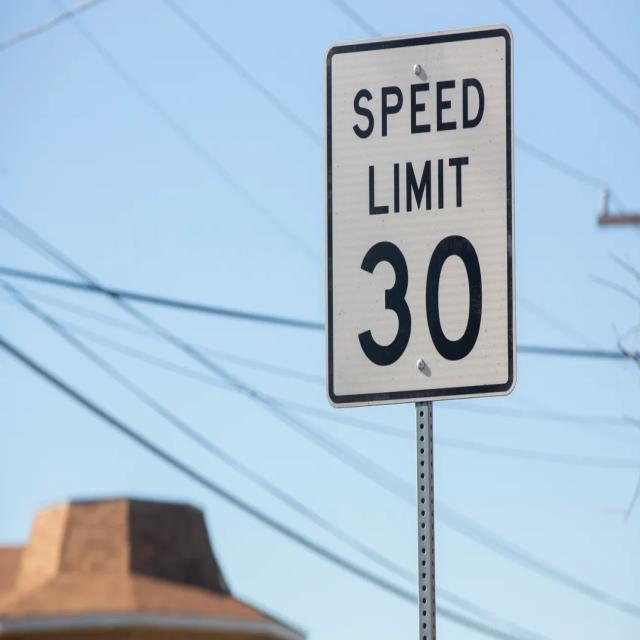Speed Limit Signs: (322, 21, 519, 412)
